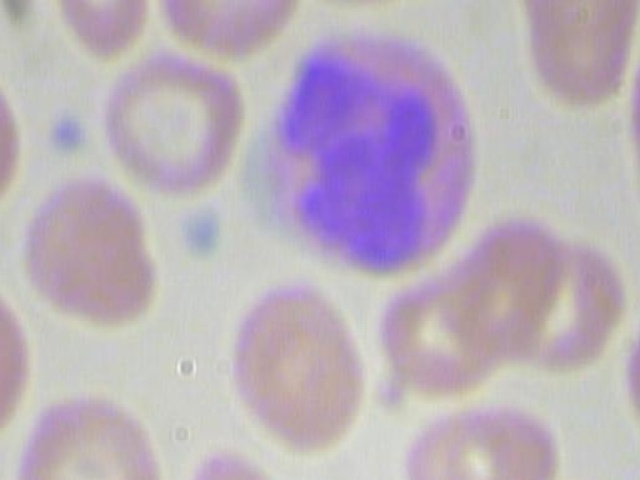Platelets: (170, 202, 238, 274), (47, 111, 87, 160)
RBC: (219, 272, 371, 464), (17, 160, 161, 338), (95, 51, 251, 201), (397, 386, 568, 480), (151, 0, 316, 63), (0, 265, 42, 451), (46, 0, 154, 58), (186, 440, 337, 480), (0, 64, 32, 228), (624, 30, 640, 244), (0, 0, 28, 8)
WBC: (252, 16, 499, 280)
